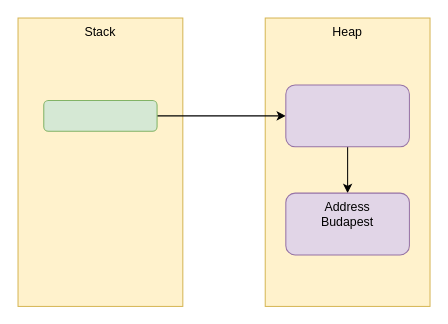
Some shapes in this 448 by 324 pixel diagram are drawn without their labels. Here are the shapes that lost their labels. From the top down, the centre of each, then its label:
point (100, 115): trainer
point (347, 115): Trainer John Doe
